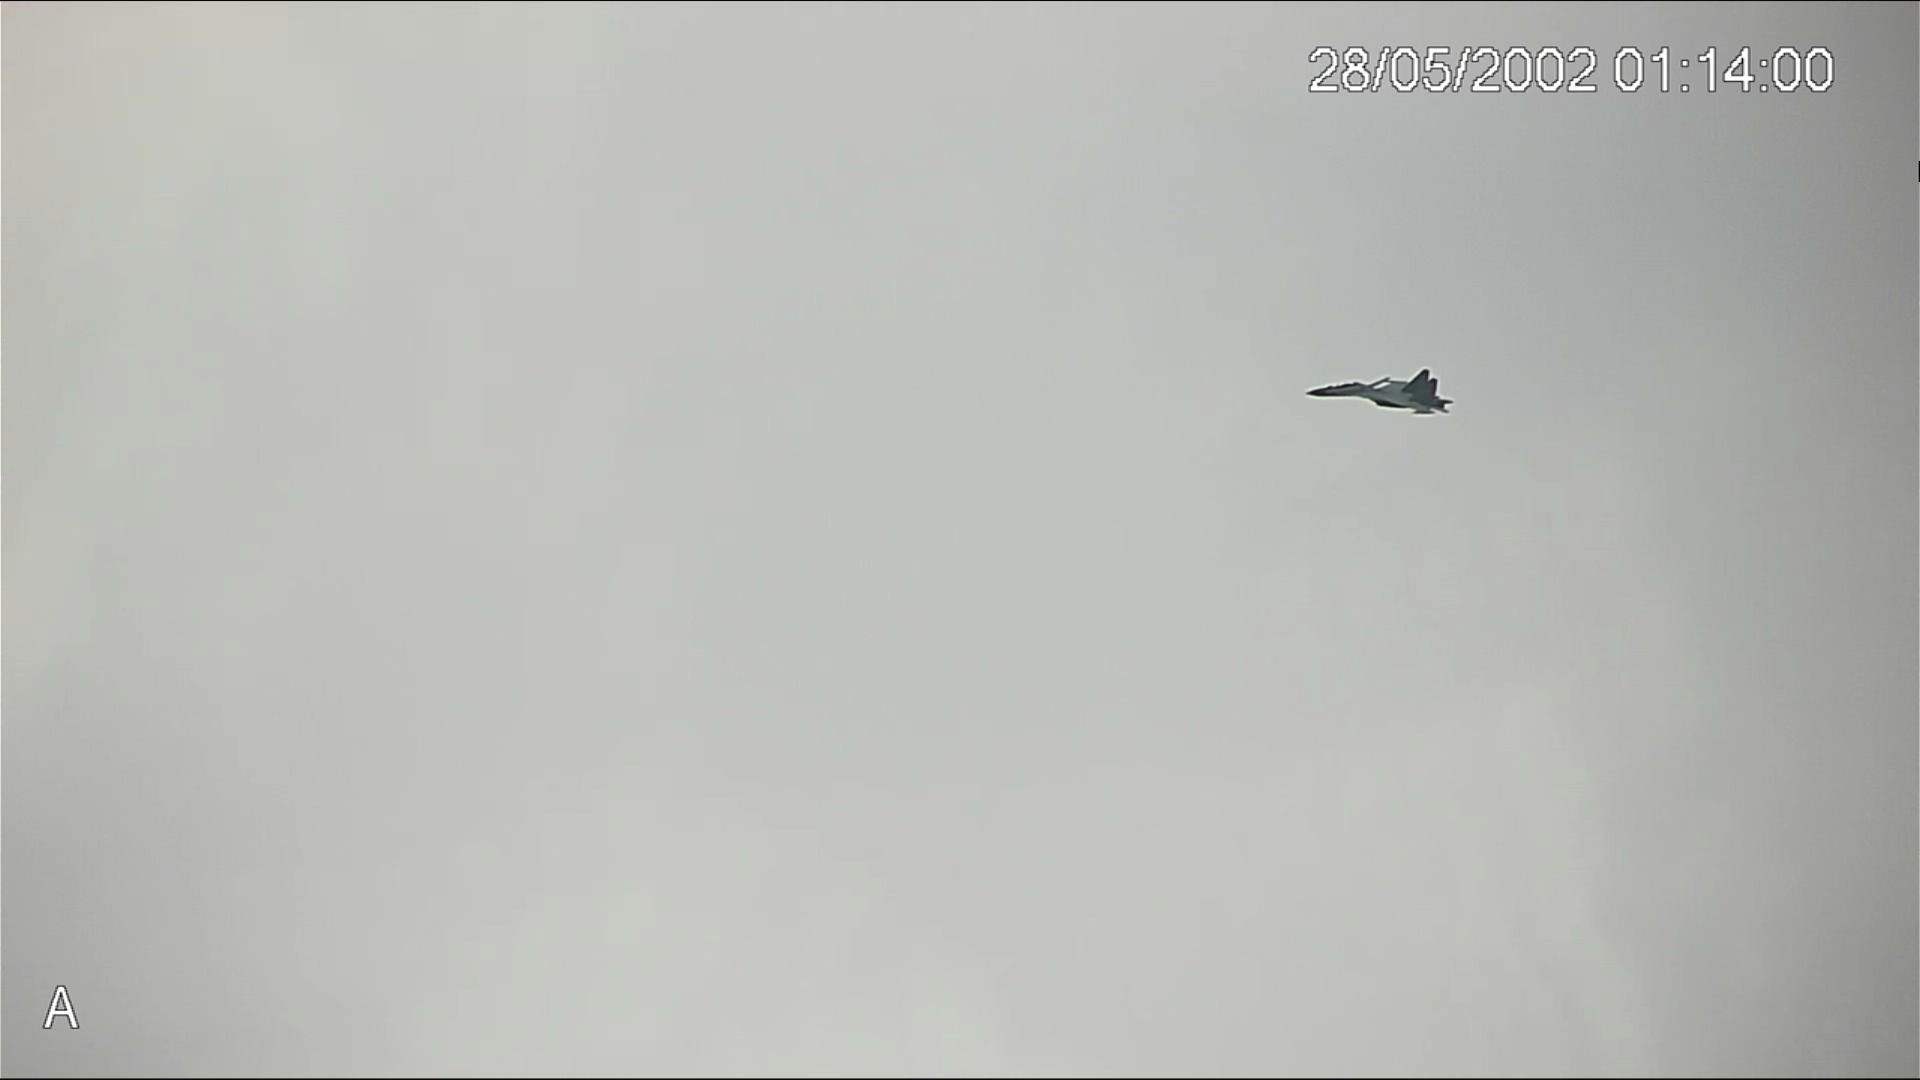SU_30: (1304, 365, 1455, 426)
